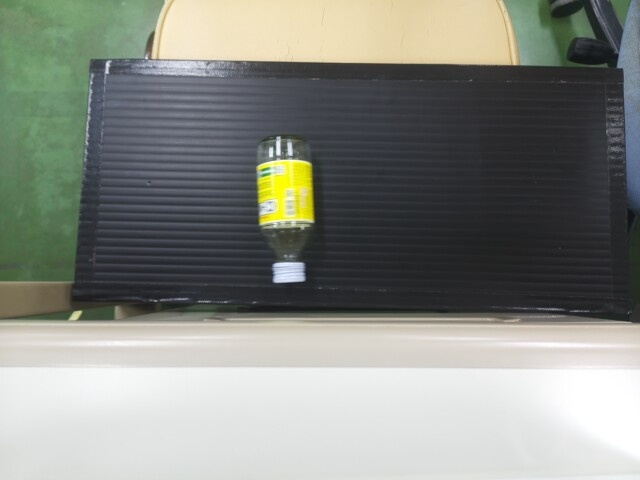glass_bottle: (254, 135, 312, 281)
